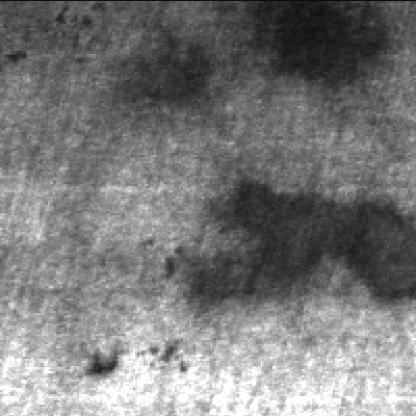patches: (168, 166, 414, 308), (231, 0, 387, 81), (108, 27, 208, 108)
